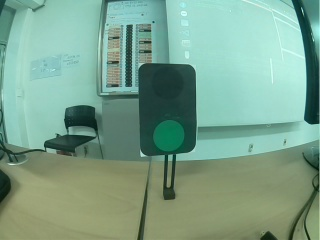green_light: (141, 66, 192, 150)
